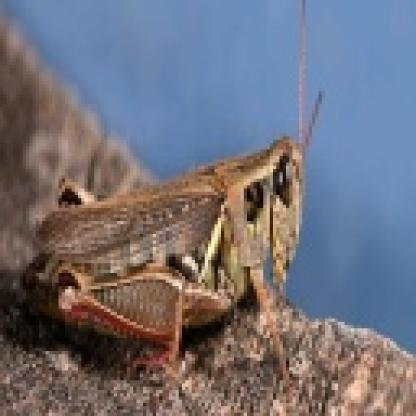grasshopper: (18, 95, 331, 377)
